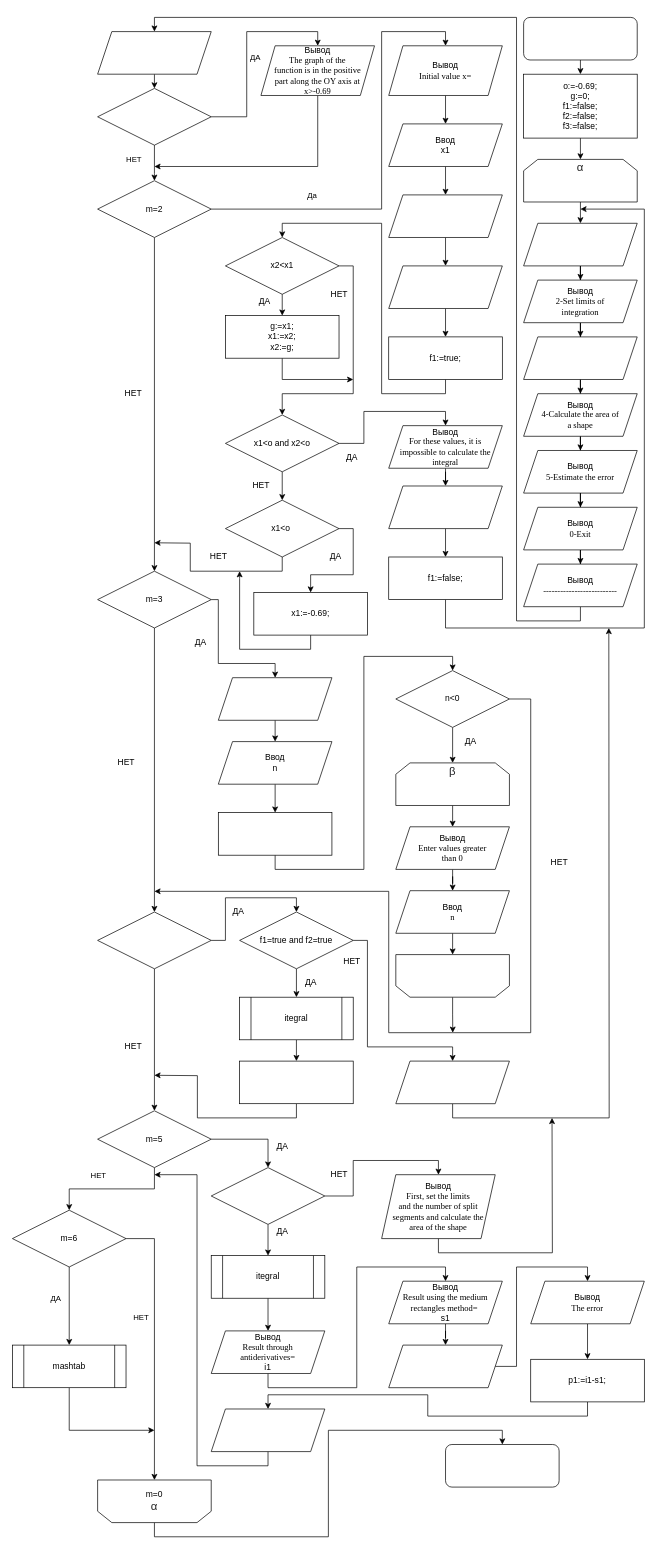
This 662x1555 diagram has some shape labels left out. Here are the shapes that lost their labels. From the top down, the box of each, then its label:
(97, 31, 211, 74): Ввод m
(523, 17, 637, 60): Начало
(97, 88, 211, 145): m=1
(388, 194, 502, 237): Вывод End value x =
(523, 223, 637, 266): Вывод 1- Choose an action
(388, 265, 502, 308): Ввод x2
(523, 336, 637, 379): Вывод 3-Enter the number of segments to split
(388, 485, 502, 529): Вывод Enter values of X>=-0.69
(218, 677, 332, 720): Вывод Enter the number of segments to split
(218, 812, 332, 855): f2:=true;
(97, 911, 211, 969): m=4
(395, 954, 509, 997): п> 0 β
(239, 1060, 353, 1104): f3:=true;
(395, 1060, 509, 1104): Вывод First, set the limits and the number of split segments
(211, 1167, 325, 1224): f1=true and f2=true and f3=true
(388, 1344, 502, 1388): Вывод --------------------
(211, 1408, 325, 1452): Вывод p
(445, 1444, 559, 1487): Конец
